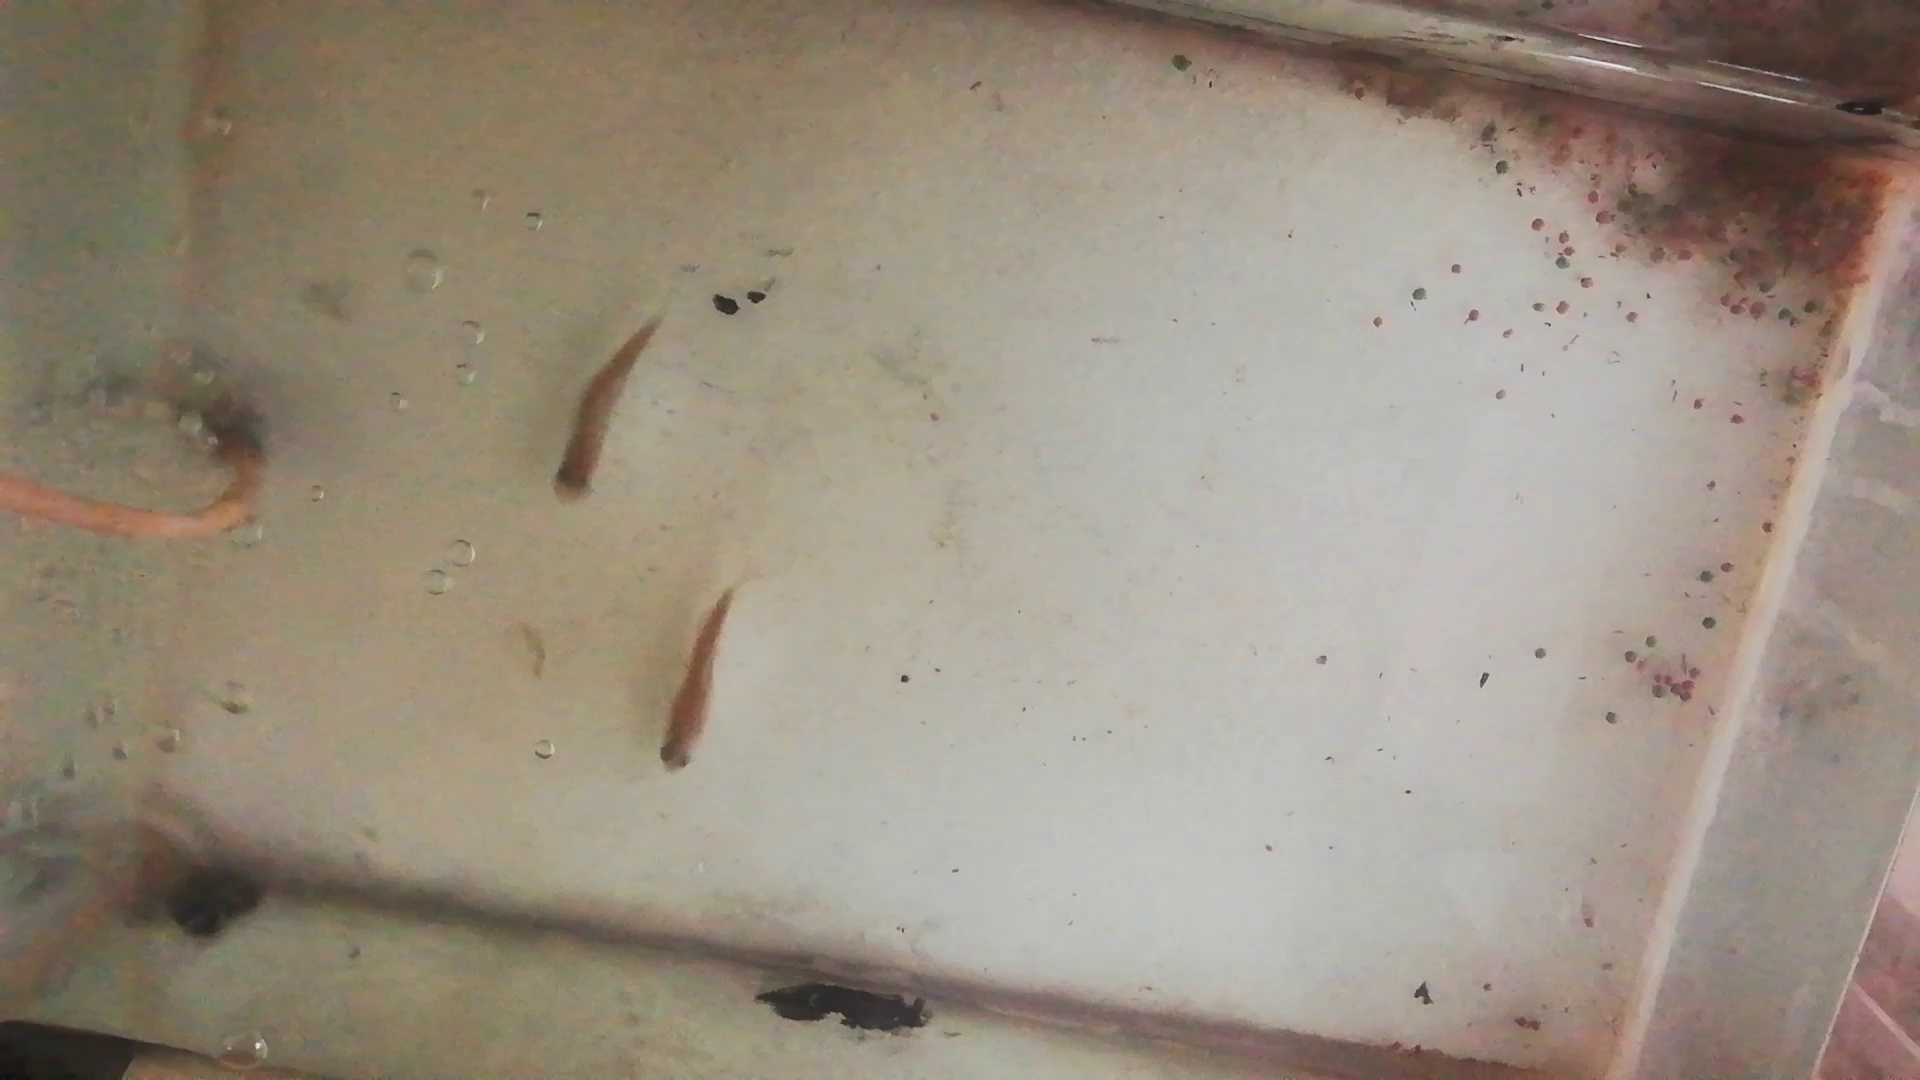fish: (550, 320, 655, 501), (655, 583, 735, 773)
